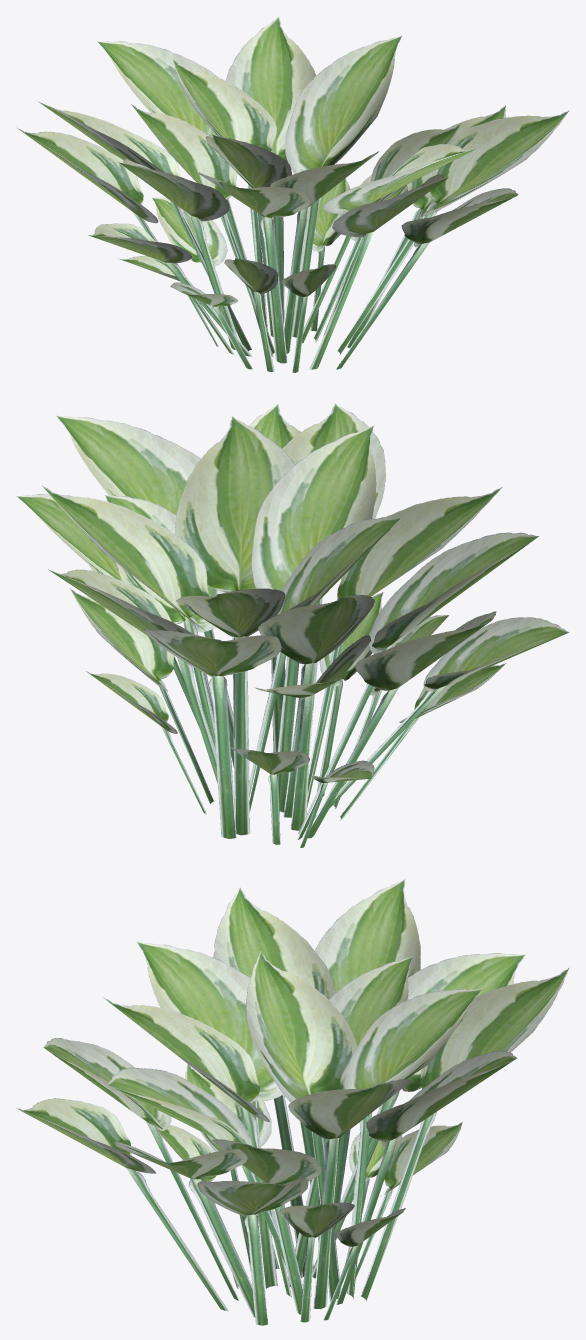
The model's file is plant_small_wg_02A.fbx.
The picture shows the model from 3 angles, top to bottom: view 1: azimuth 30°, elevation 25°; view 2: azimuth 150°, elevation 25°; view 3: azimuth 270°, elevation 25°; orthographic projection. The views are drawn at different scales.
Visible parts, largest first — view 1: plant_small_wg_02A; view 2: plant_small_wg_02A; view 3: plant_small_wg_02A.
Part boxes in pixels (x1,y1,x2,y2): plant_small_wg_02A: [16, 17, 569, 372]; plant_small_wg_02A: [16, 403, 569, 847]; plant_small_wg_02A: [16, 879, 569, 1325].
Bounding box in the file's own units: 90.96 × 48.62 × 81.61.
